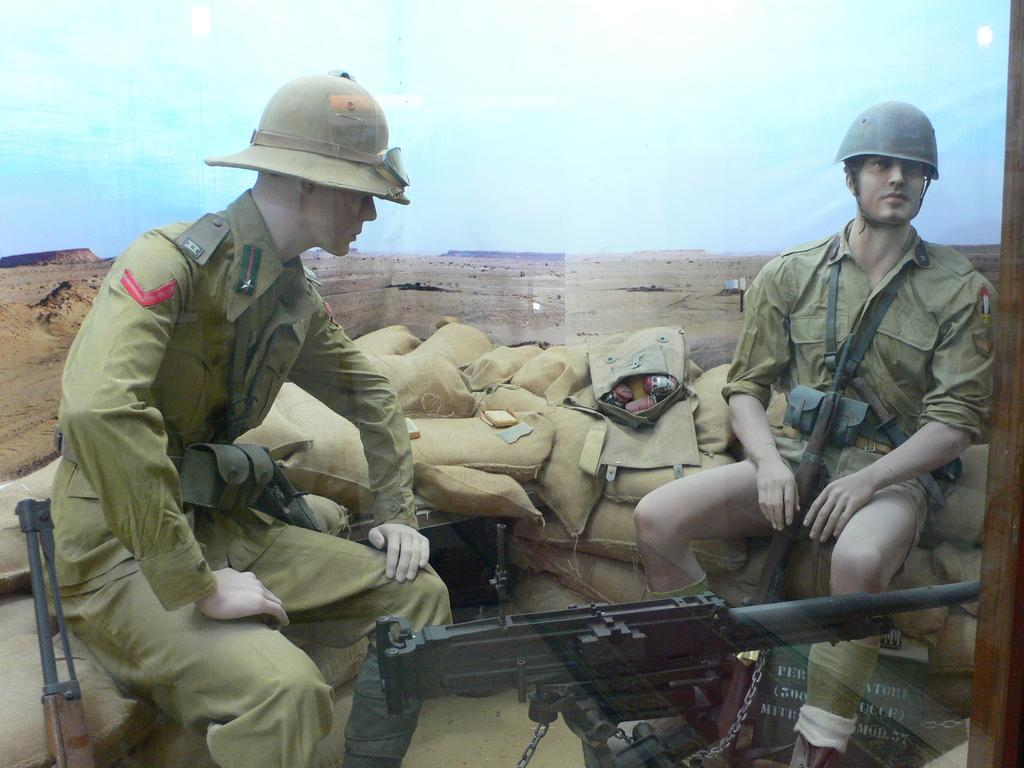Hat: (201, 68, 405, 203)
